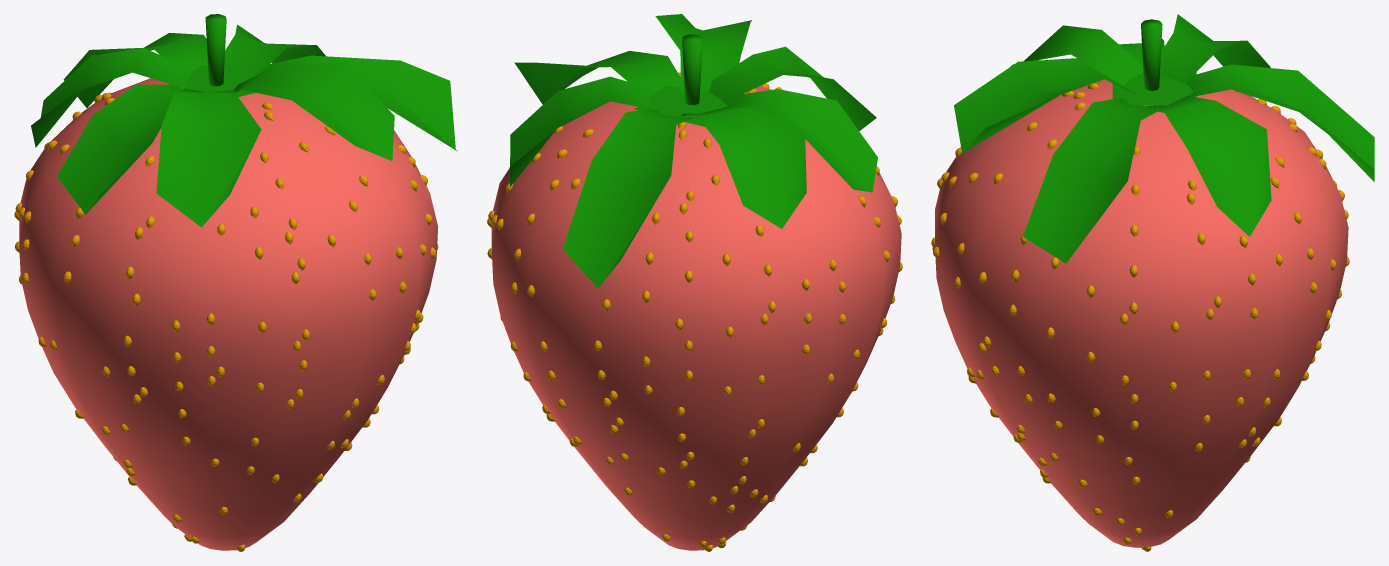
File: scene_erdbeere.gltf
The picture shows the model from 3 angles, left to right: view 1: azimuth 30°, elevation 25°; view 2: azimuth 150°, elevation 25°; view 3: azimuth 270°, elevation 25°; orthographic projection. The views are drawn at different scales.
Visible parts, largest first — view 1: Erdbeere, Blätter; view 2: Erdbeere, Blätter; view 3: Erdbeere, Blätter.
Part boxes in pixels (x1,y1,x2,y2): Erdbeere: [19, 78, 437, 550]; Blätter: [31, 14, 457, 227]; Erdbeere: [491, 86, 901, 550]; Blätter: [509, 14, 877, 287]; Erdbeere: [935, 79, 1348, 547]; Blätter: [954, 14, 1374, 263].
Size of the model in its own units: 2.63 by 3.42 by 2.65.
